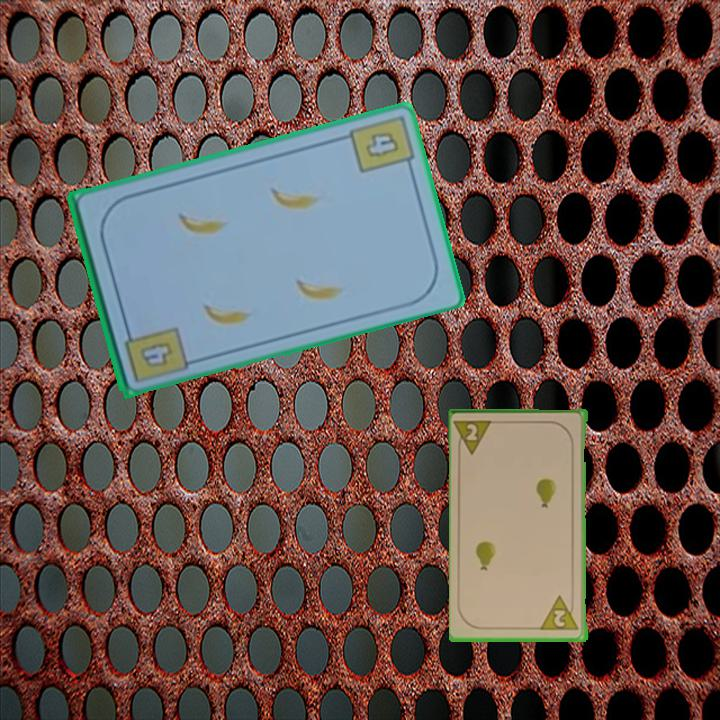2p: (453, 417, 497, 458), (539, 593, 582, 634)
4b: (344, 115, 417, 176), (136, 338, 176, 370)
